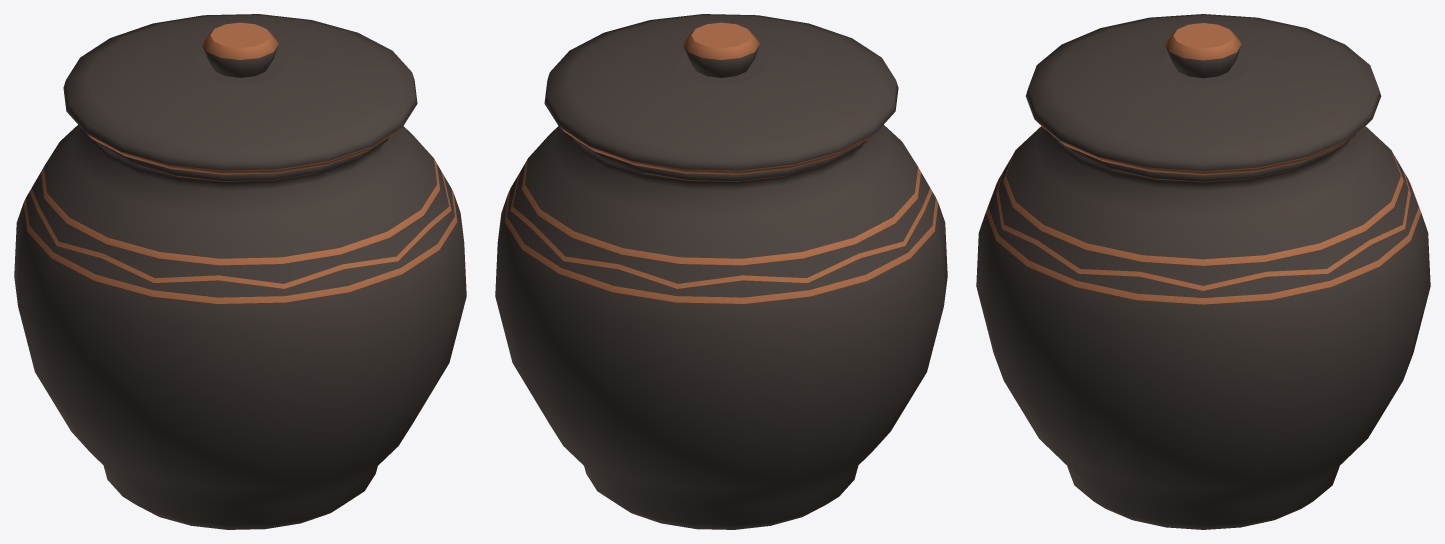
File: onggi.glb
3 renders of one model, left to right at view 1: azimuth 30°, elevation 25°; view 2: azimuth 150°, elevation 25°; view 3: azimuth 270°, elevation 25°, orthographic.
Visible parts, largest first — view 1: onggi; view 2: onggi; view 3: onggi.
Boxes of the visible parts, x1=… form: onggi: x1=14, y1=14, x2=466, y2=529; onggi: x1=495, y1=14, x2=947, y2=529; onggi: x1=976, y1=14, x2=1430, y2=529.
Bounding box in the file's own units: 0.92 × 0.99 × 0.92.
Materials: 1 (1 with a texture image).
